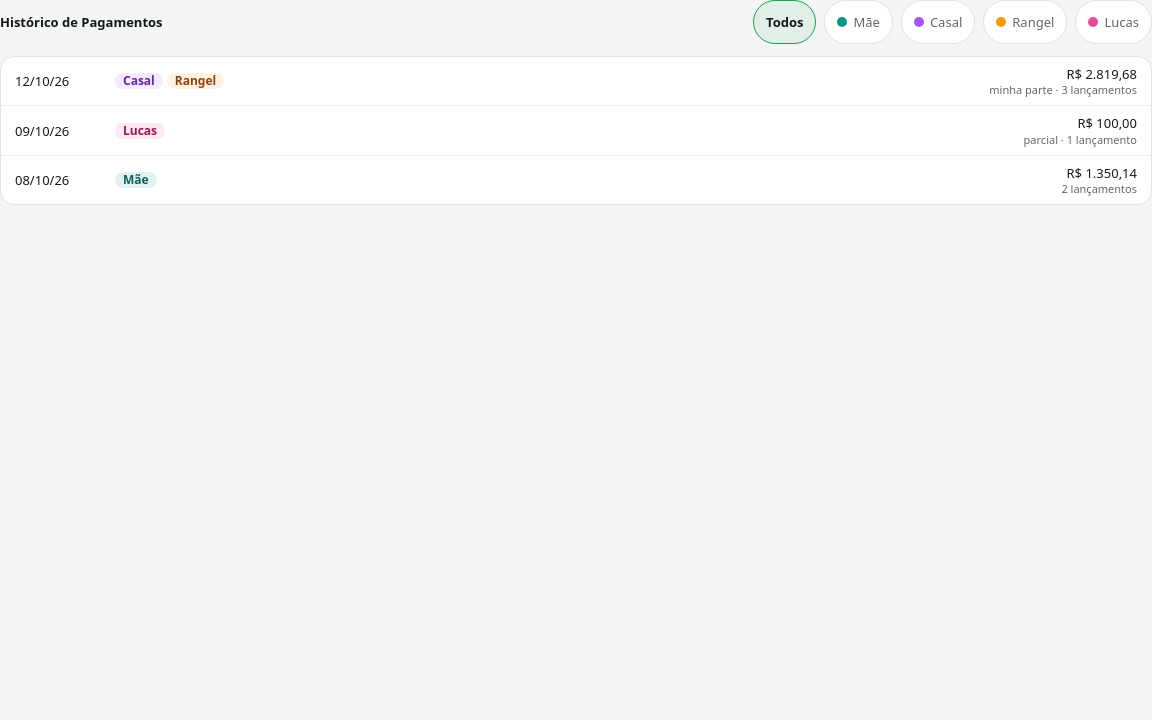
it: Histórico de Pagamentos: o detalhe › minha parte: o valor recebido, o que quitou e 'a minha parte' (a diferença); o item parcial não mudou o Status
Check: the list named "Pagamentos" is shown, box [0, 56, 1151, 206]
Step 1. Click the button "12/10/26" → (42, 81), box [1, 57, 1151, 106]
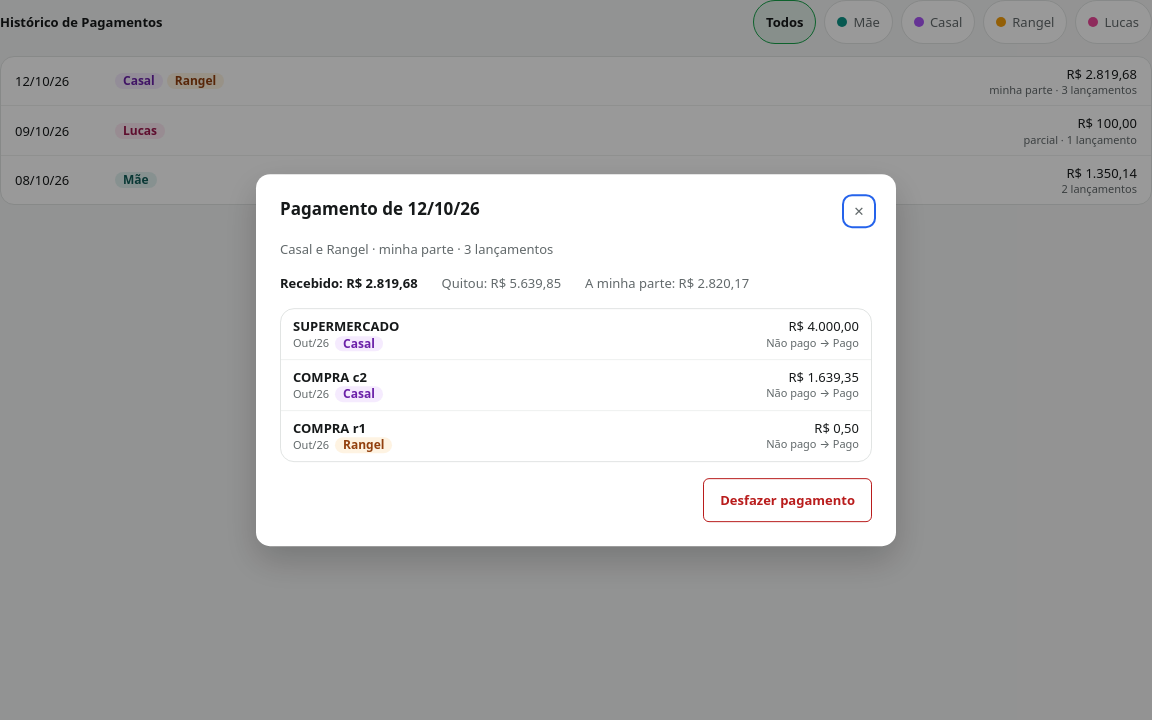
Check: the dialog shows "Recebido: R$ 2.819,68", box [280, 274, 418, 292]
Check: the dialog shows "Quitou: R$ 5.639,85", box [442, 274, 561, 292]
Check: the dialog shows "A minha parte: R$ 2.820,17", box [585, 274, 749, 292]
Step 2. Click the button named "Fechar" → (859, 211), box [846, 198, 872, 224]
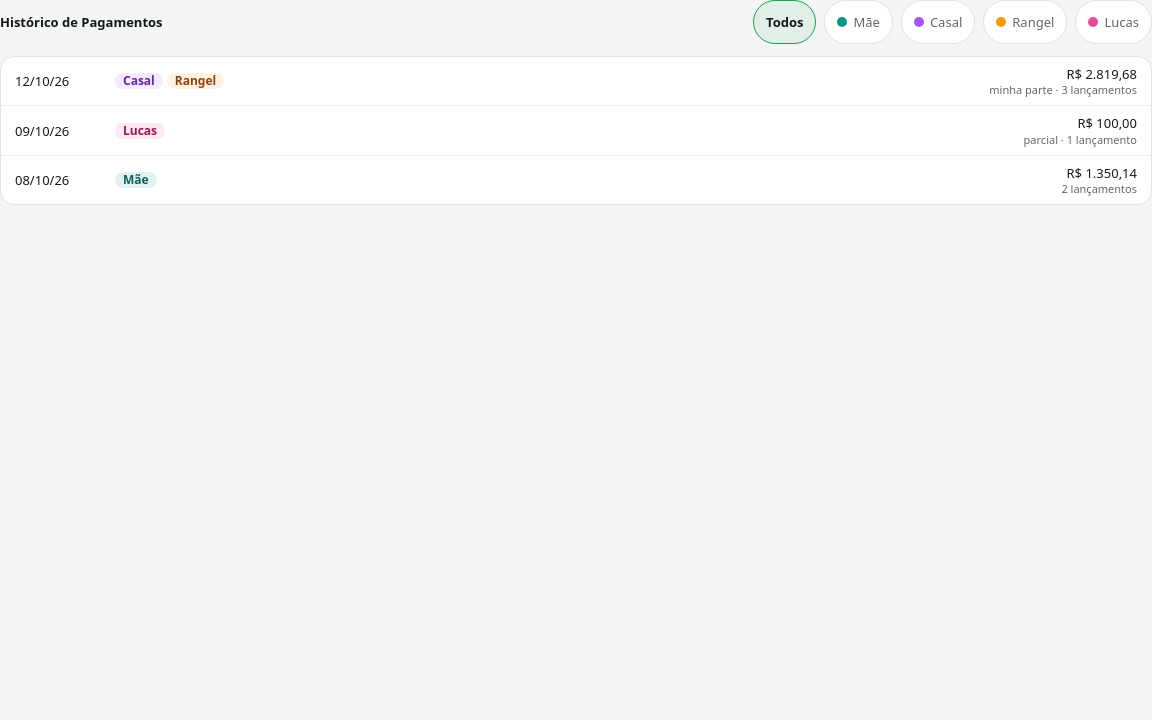
Check: the dialog is gone
Step 3. Click the button "09/10/26 Lucas R$ 100,00 parcial · 1 lançamento" → (42, 131), box [1, 106, 1151, 155]
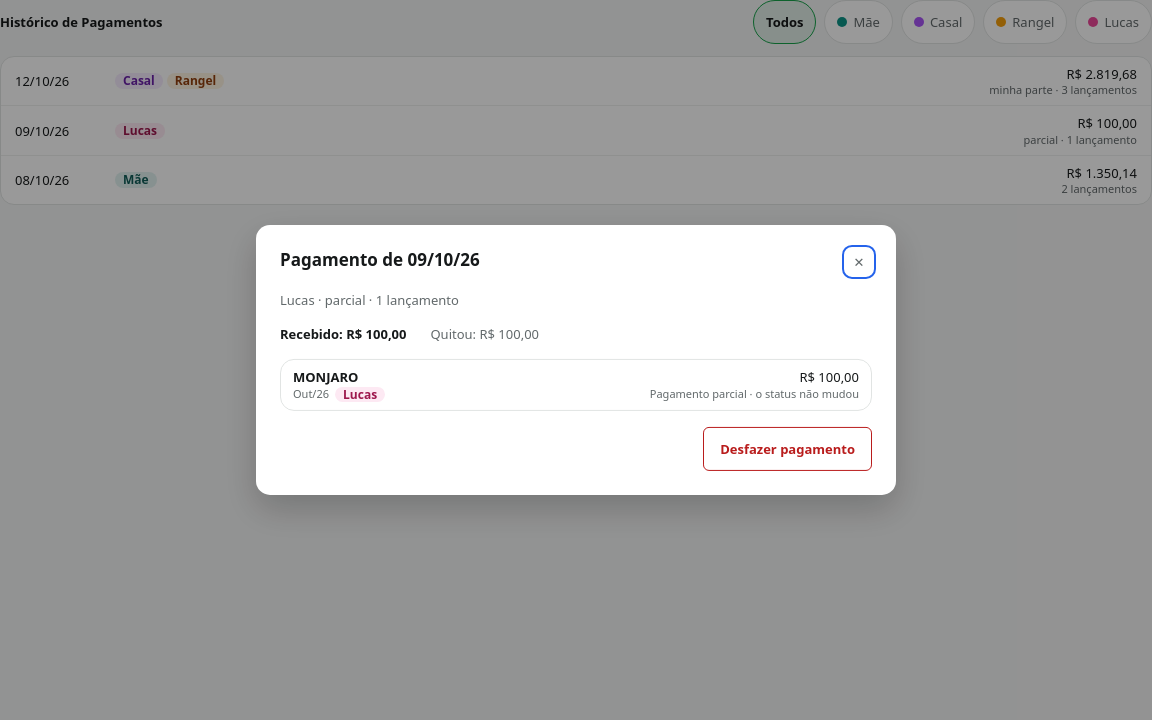
Check: the text "A minha parte" is not shown
Check: the dialog shows "Recebido: R$ 100,00", box [280, 325, 406, 343]
Check: the text "Pagamento parcial · o status não mudou" is shown, box [650, 386, 859, 401]
